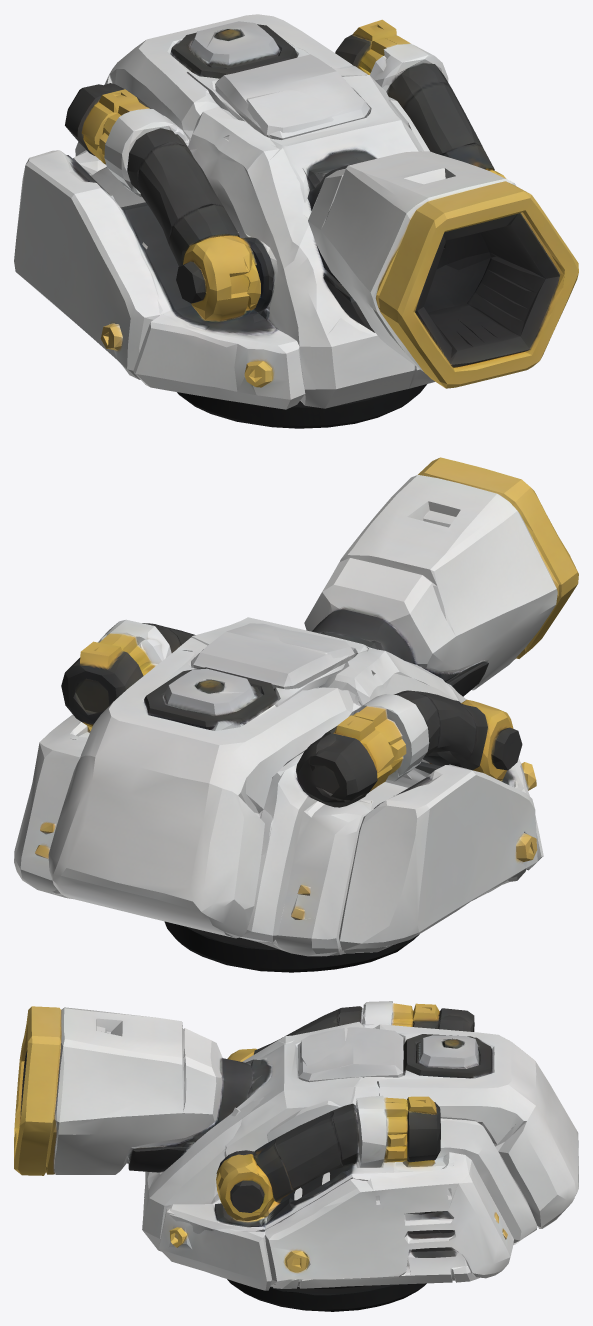
The model's file is scatter_bang.glb.
3 views of the same model, one above another, from view 1: azimuth 30°, elevation 25°; view 2: azimuth 150°, elevation 25°; view 3: azimuth 270°, elevation 25° (orthographic). The views are drawn at different scales.
Visible parts, largest first — view 1: root.3, root.4, root.2, root.1, root.0; view 2: root.3, root.4, root.2, root.0, root.1; view 3: root.3, root.4, root.2, root.0, root.1.
Boxes of the visible parts, box(x1,y1,x2,y2) form: root.3: box(14, 14, 494, 409); root.4: box(308, 151, 578, 388); root.2: box(172, 24, 506, 284); root.1: box(66, 83, 275, 335); root.0: box(117, 324, 426, 428); root.3: box(14, 619, 543, 956); root.4: box(304, 457, 578, 690); root.2: box(70, 608, 460, 739); root.0: box(52, 782, 526, 972); root.1: box(260, 700, 518, 857); root.3: box(126, 1001, 578, 1290); root.4: box(14, 1006, 222, 1175); root.2: box(158, 1027, 492, 1247); root.0: box(227, 1172, 522, 1311); root.1: box(361, 1015, 470, 1031).
Bounding box in the file's own units: 1.3 × 0.9285 × 1.9.
5 materials, 5 textured.
